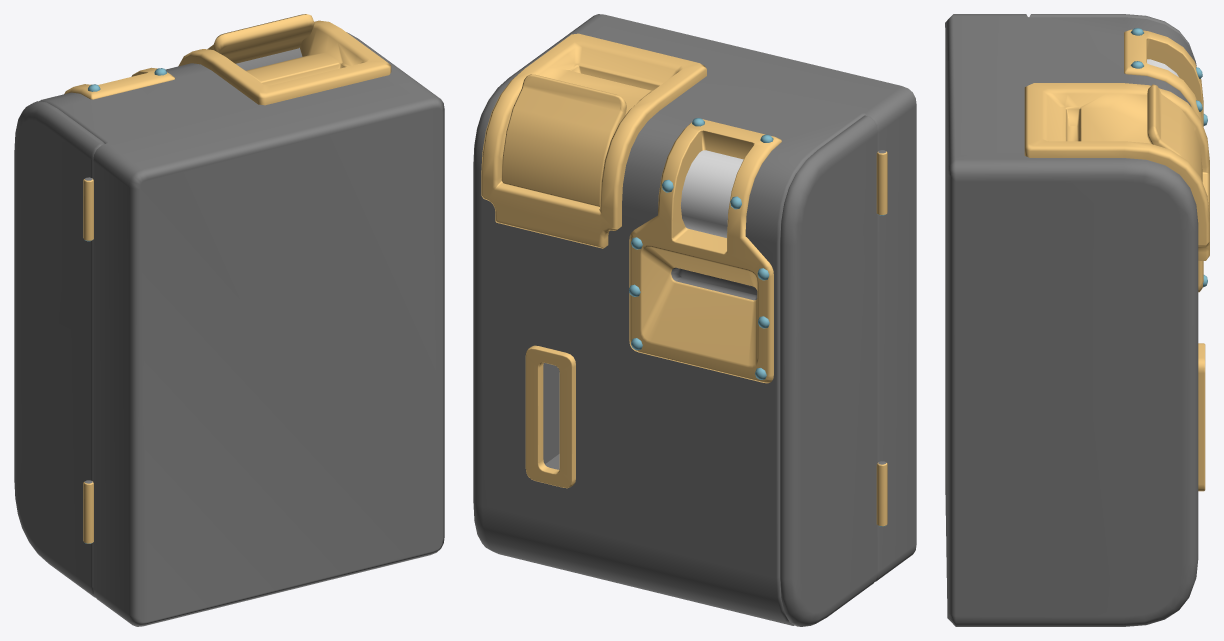
Rendered from PerfocardHolder.fbx.
3 renders of one model, left to right at view 1: azimuth 30°, elevation 25°; view 2: azimuth 150°, elevation 25°; view 3: azimuth 270°, elevation 25°, orthographic. The views are drawn at different scales.
Parts seen in each view (by area): view 1: Box056, PerfocardHandle; view 2: Box056, PerfocardHandle, Cylinder050; view 3: Box056, PerfocardHandle.
Boxes of the visible parts, x1=… form: Box056: x1=14, y1=20, x2=444, y2=626; PerfocardHandle: x1=207, y1=14, x2=314, y2=63; Box056: x1=473, y1=14, x2=916, y2=626; PerfocardHandle: x1=501, y1=74, x2=626, y2=206; Cylinder050: x1=681, y1=150, x2=743, y2=237; Box056: x1=945, y1=14, x2=1209, y2=626; PerfocardHandle: x1=1147, y1=84, x2=1202, y2=182.
Bounding box in the file's own units: 37.94 × 53.17 × 26.3.
